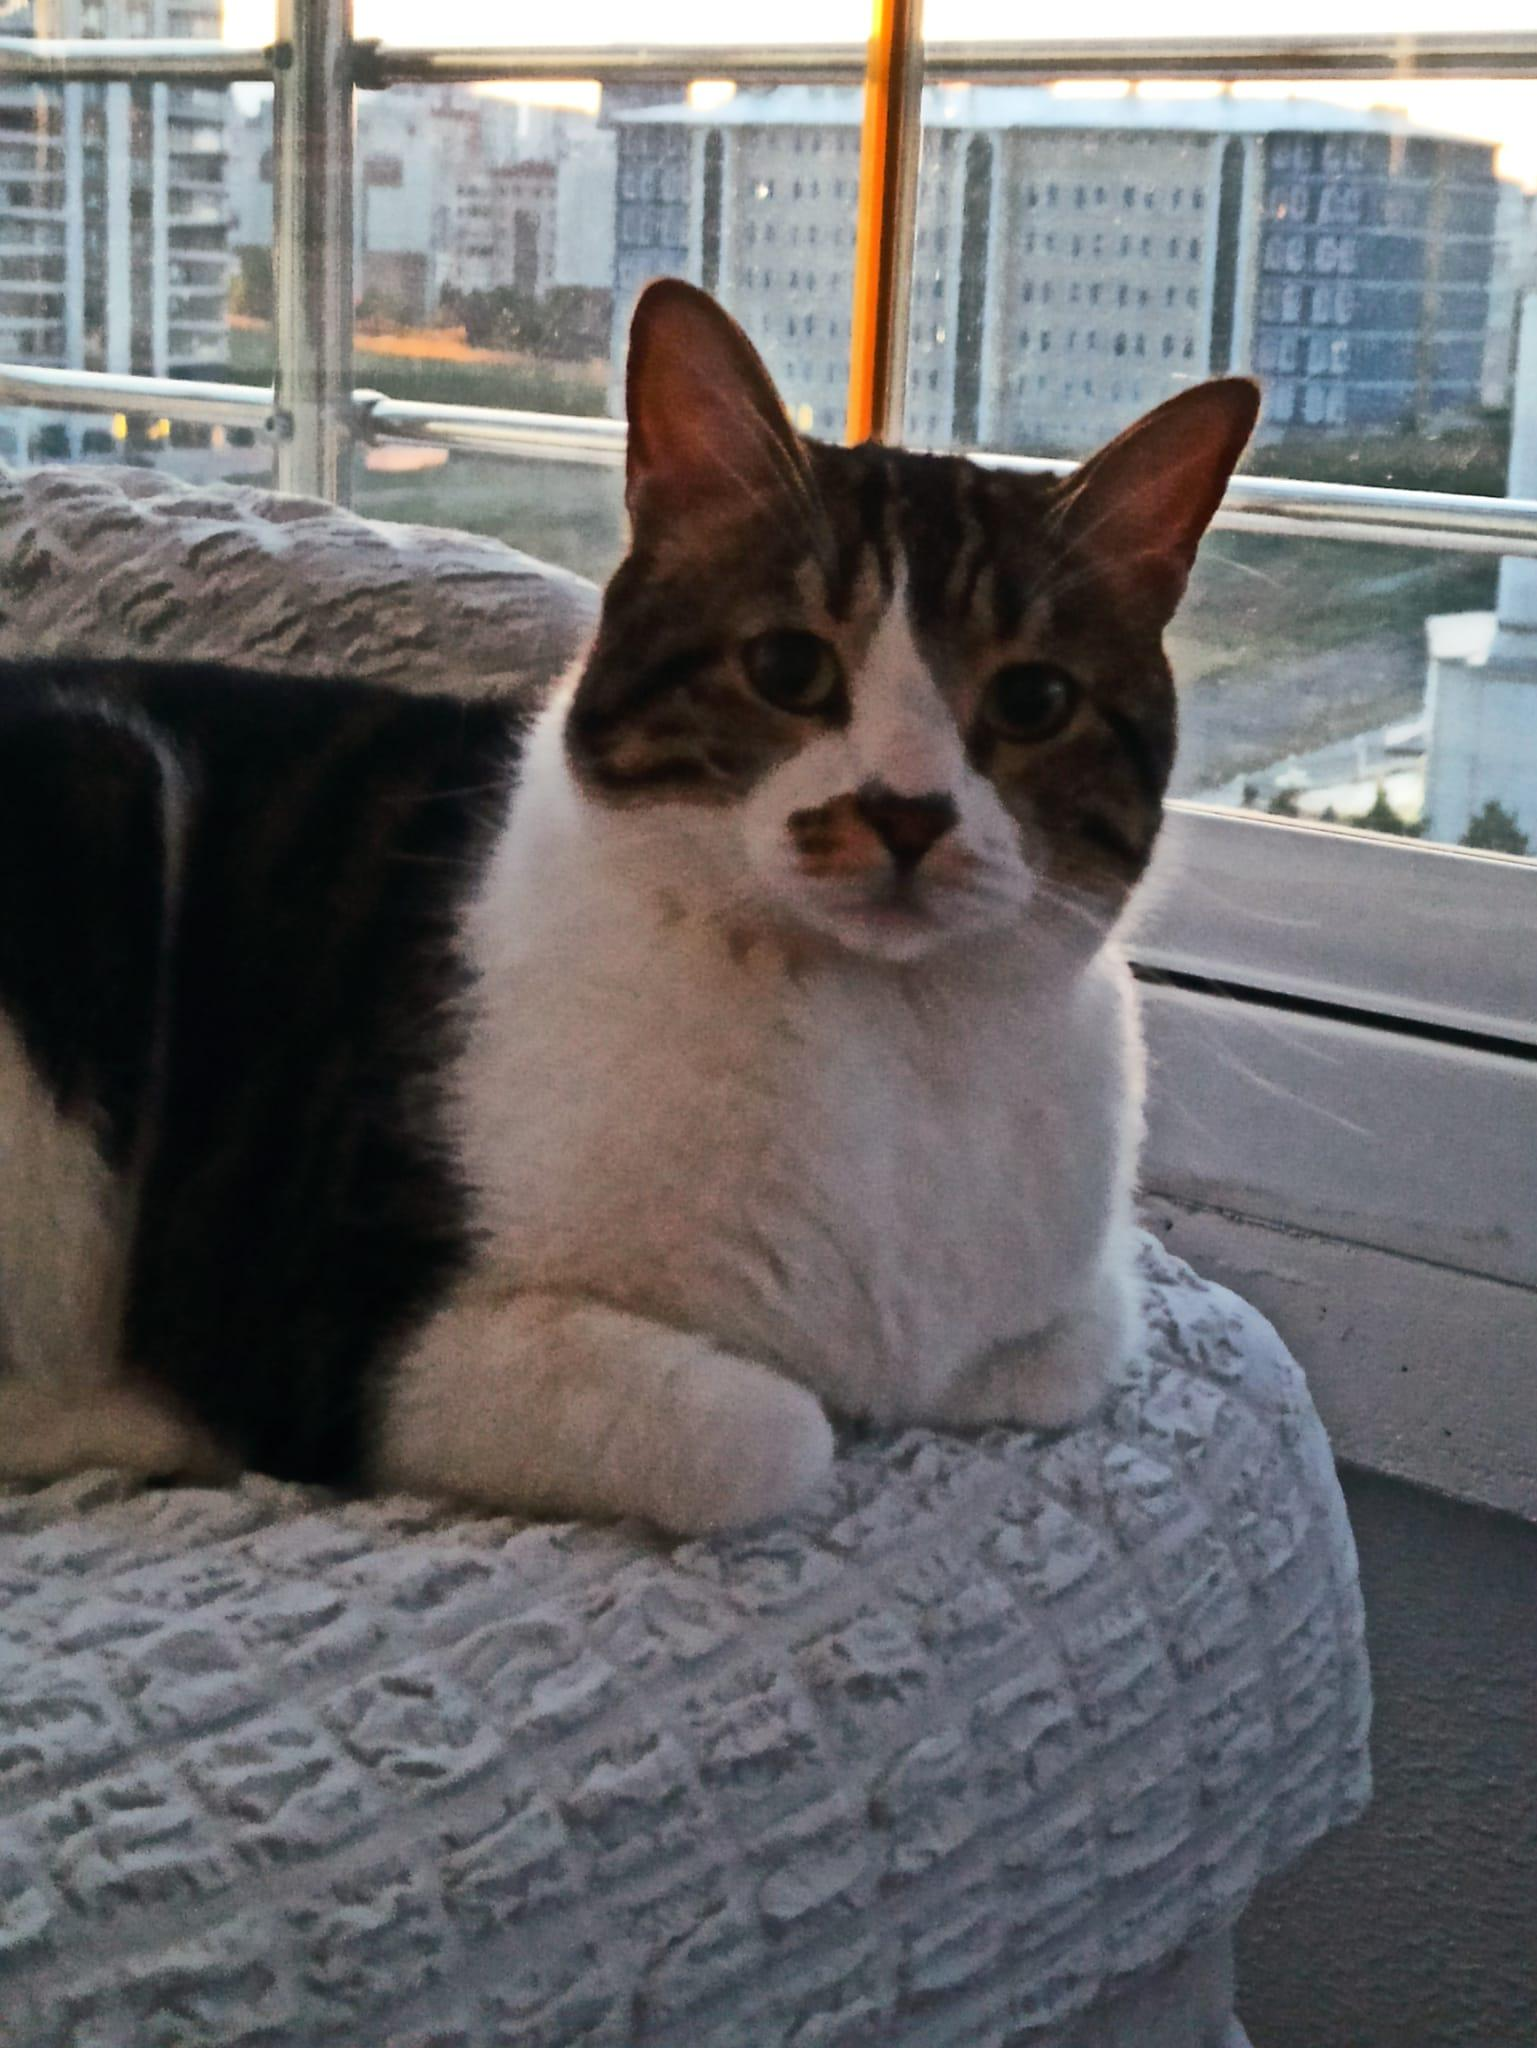kedo: (13, 287, 1253, 1530)
